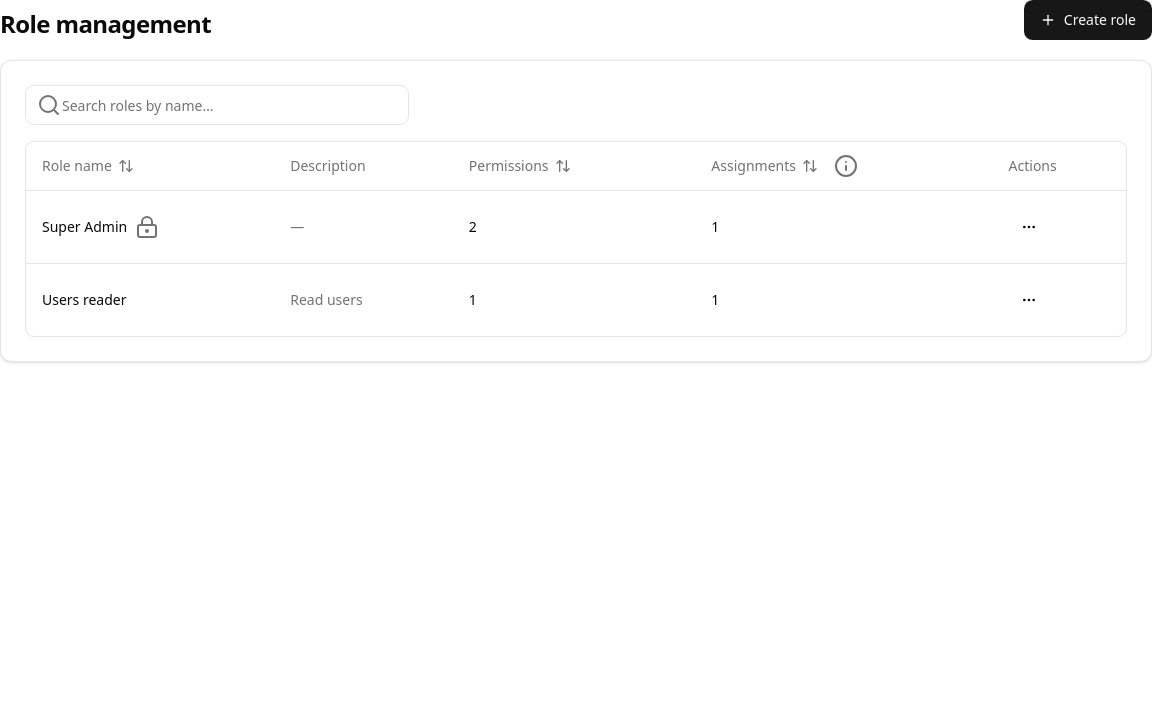
access components › keeps a stale role draft and requires a browser refresh
The width and height of the screenshot is (1152, 720).
Expected: the heading "Role management" is shown, x1=0 y1=8 x2=211 y2=40
Expected: the text "Users reader" is shown, x1=42 y1=290 x2=126 y2=310
Click the button named "More actions" in the row of "Read users": (1029, 300) x1=1009 y1=280 x2=1049 y2=320
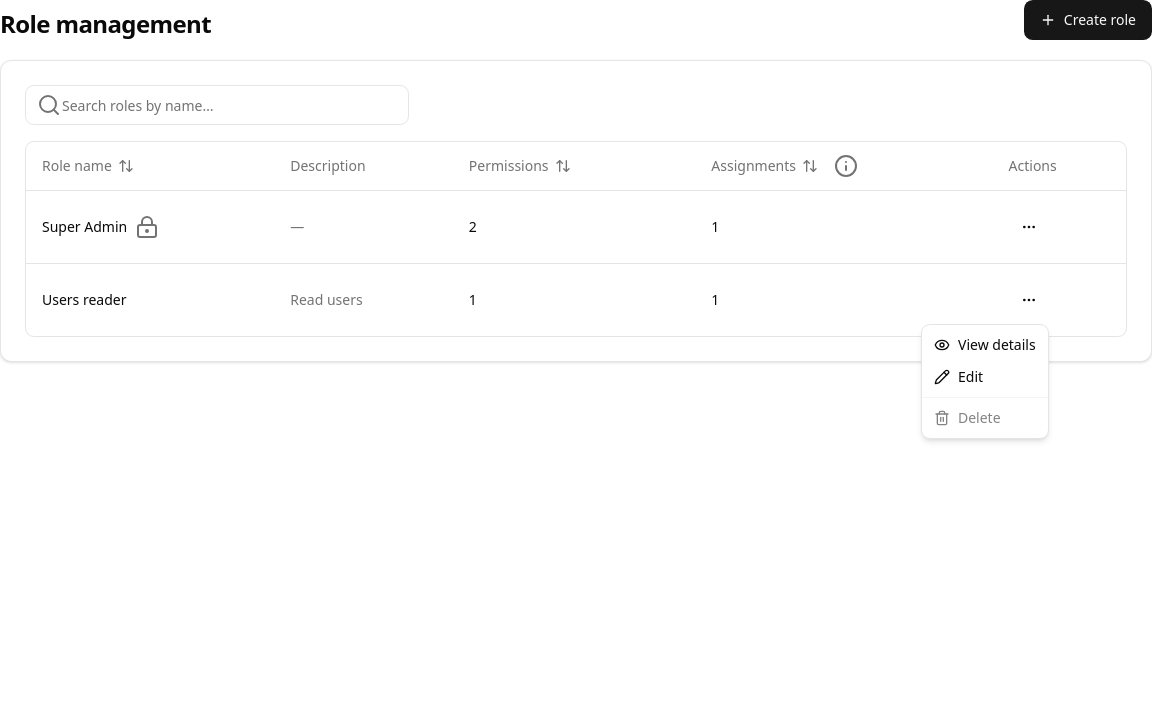
Click the menu item "Edit": (959, 376) x1=934 y1=367 x2=983 y2=386
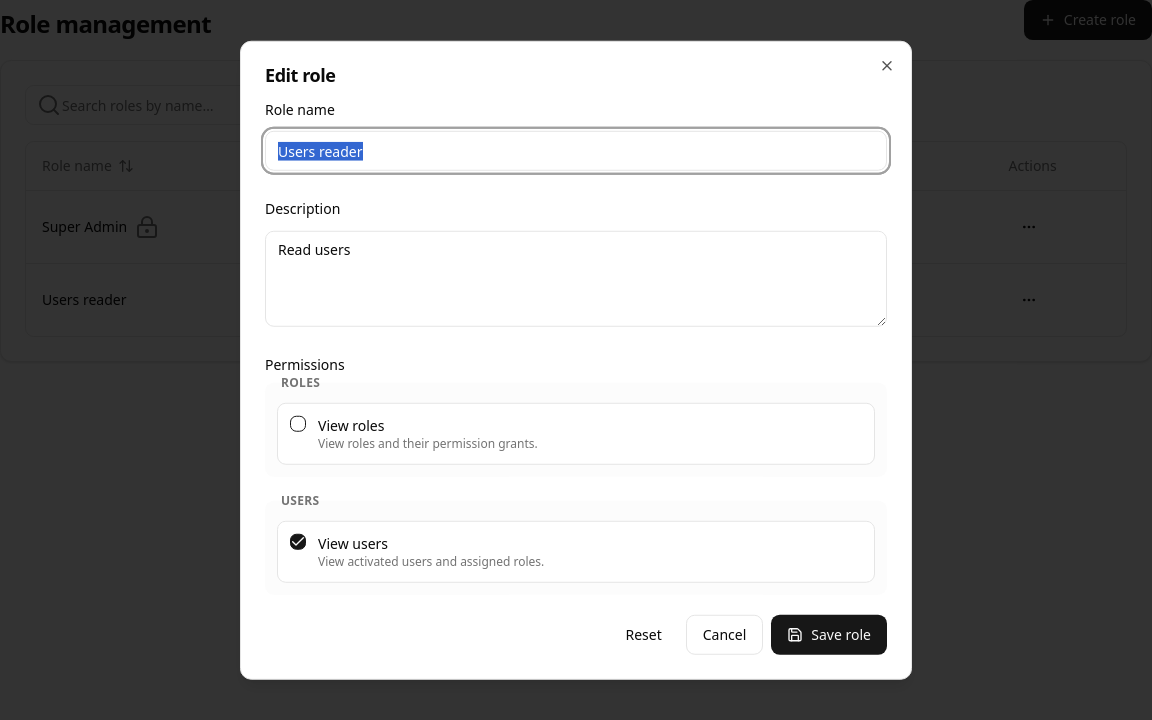
Click the button "Save role": (829, 634) x1=771 y1=614 x2=887 y2=654
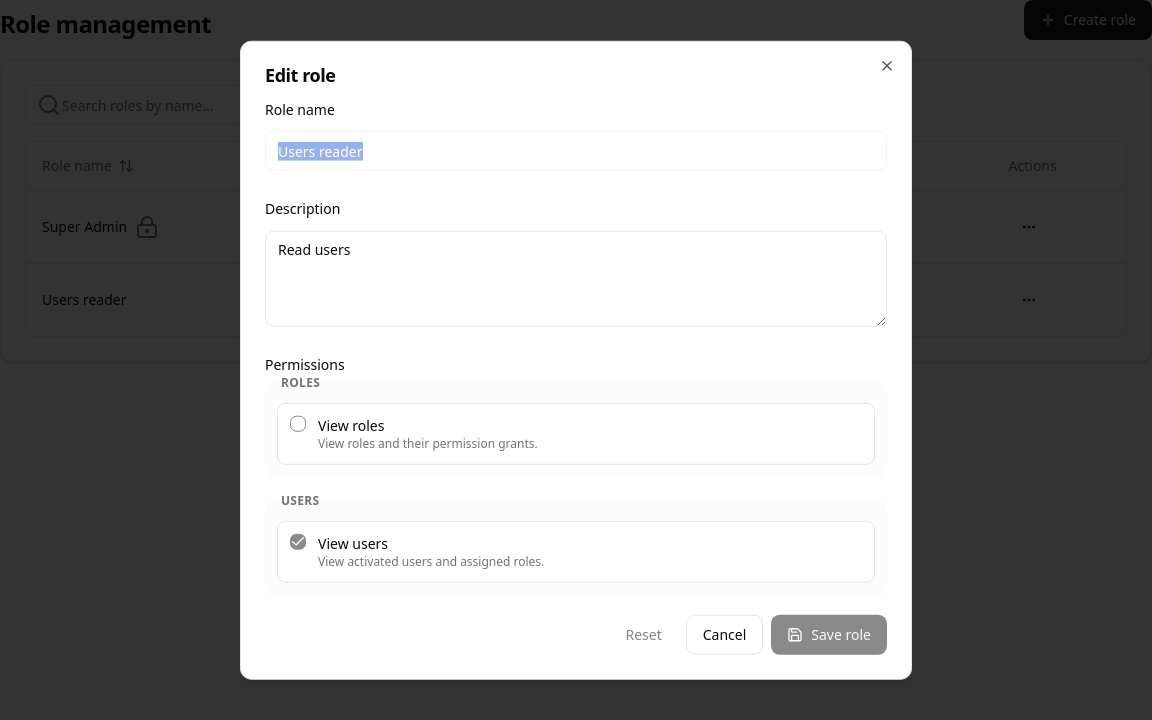
Result: the field showing "Users reader" is shown at x1=265 y1=131 x2=887 y2=171
Result: the button "Save role" is disabled at x1=771 y1=614 x2=887 y2=654
